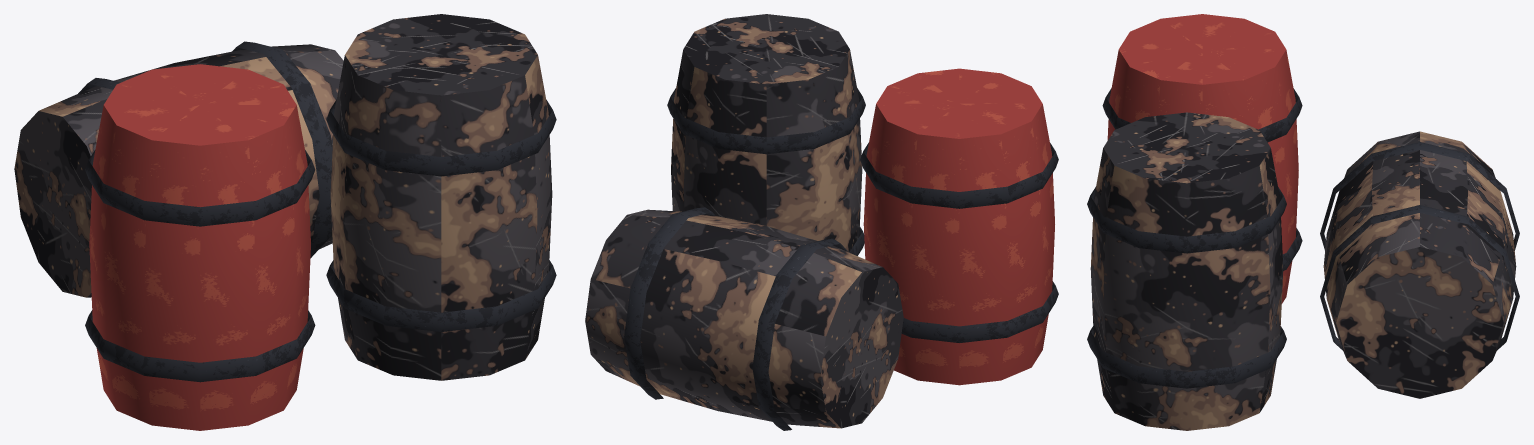
File: barrel_group.glb
The picture shows the model from 3 angles, left to right: view 1: azimuth 30°, elevation 25°; view 2: azimuth 150°, elevation 25°; view 3: azimuth 270°, elevation 25°; orthographic projection. The views are drawn at different scales.
Parts seen in each view (by area): view 1: Barrels; view 2: Barrels; view 3: Barrels.
Boxes of the visible parts, box(x1,y1,x2,y2) form: Barrels: box(14, 14, 556, 430); Barrels: box(585, 14, 1058, 430); Barrels: box(1087, 14, 1519, 430).
Size of the model in its own units: 1.39 by 0.88 by 1.39.
Materials: 3 (3 with a texture image).
